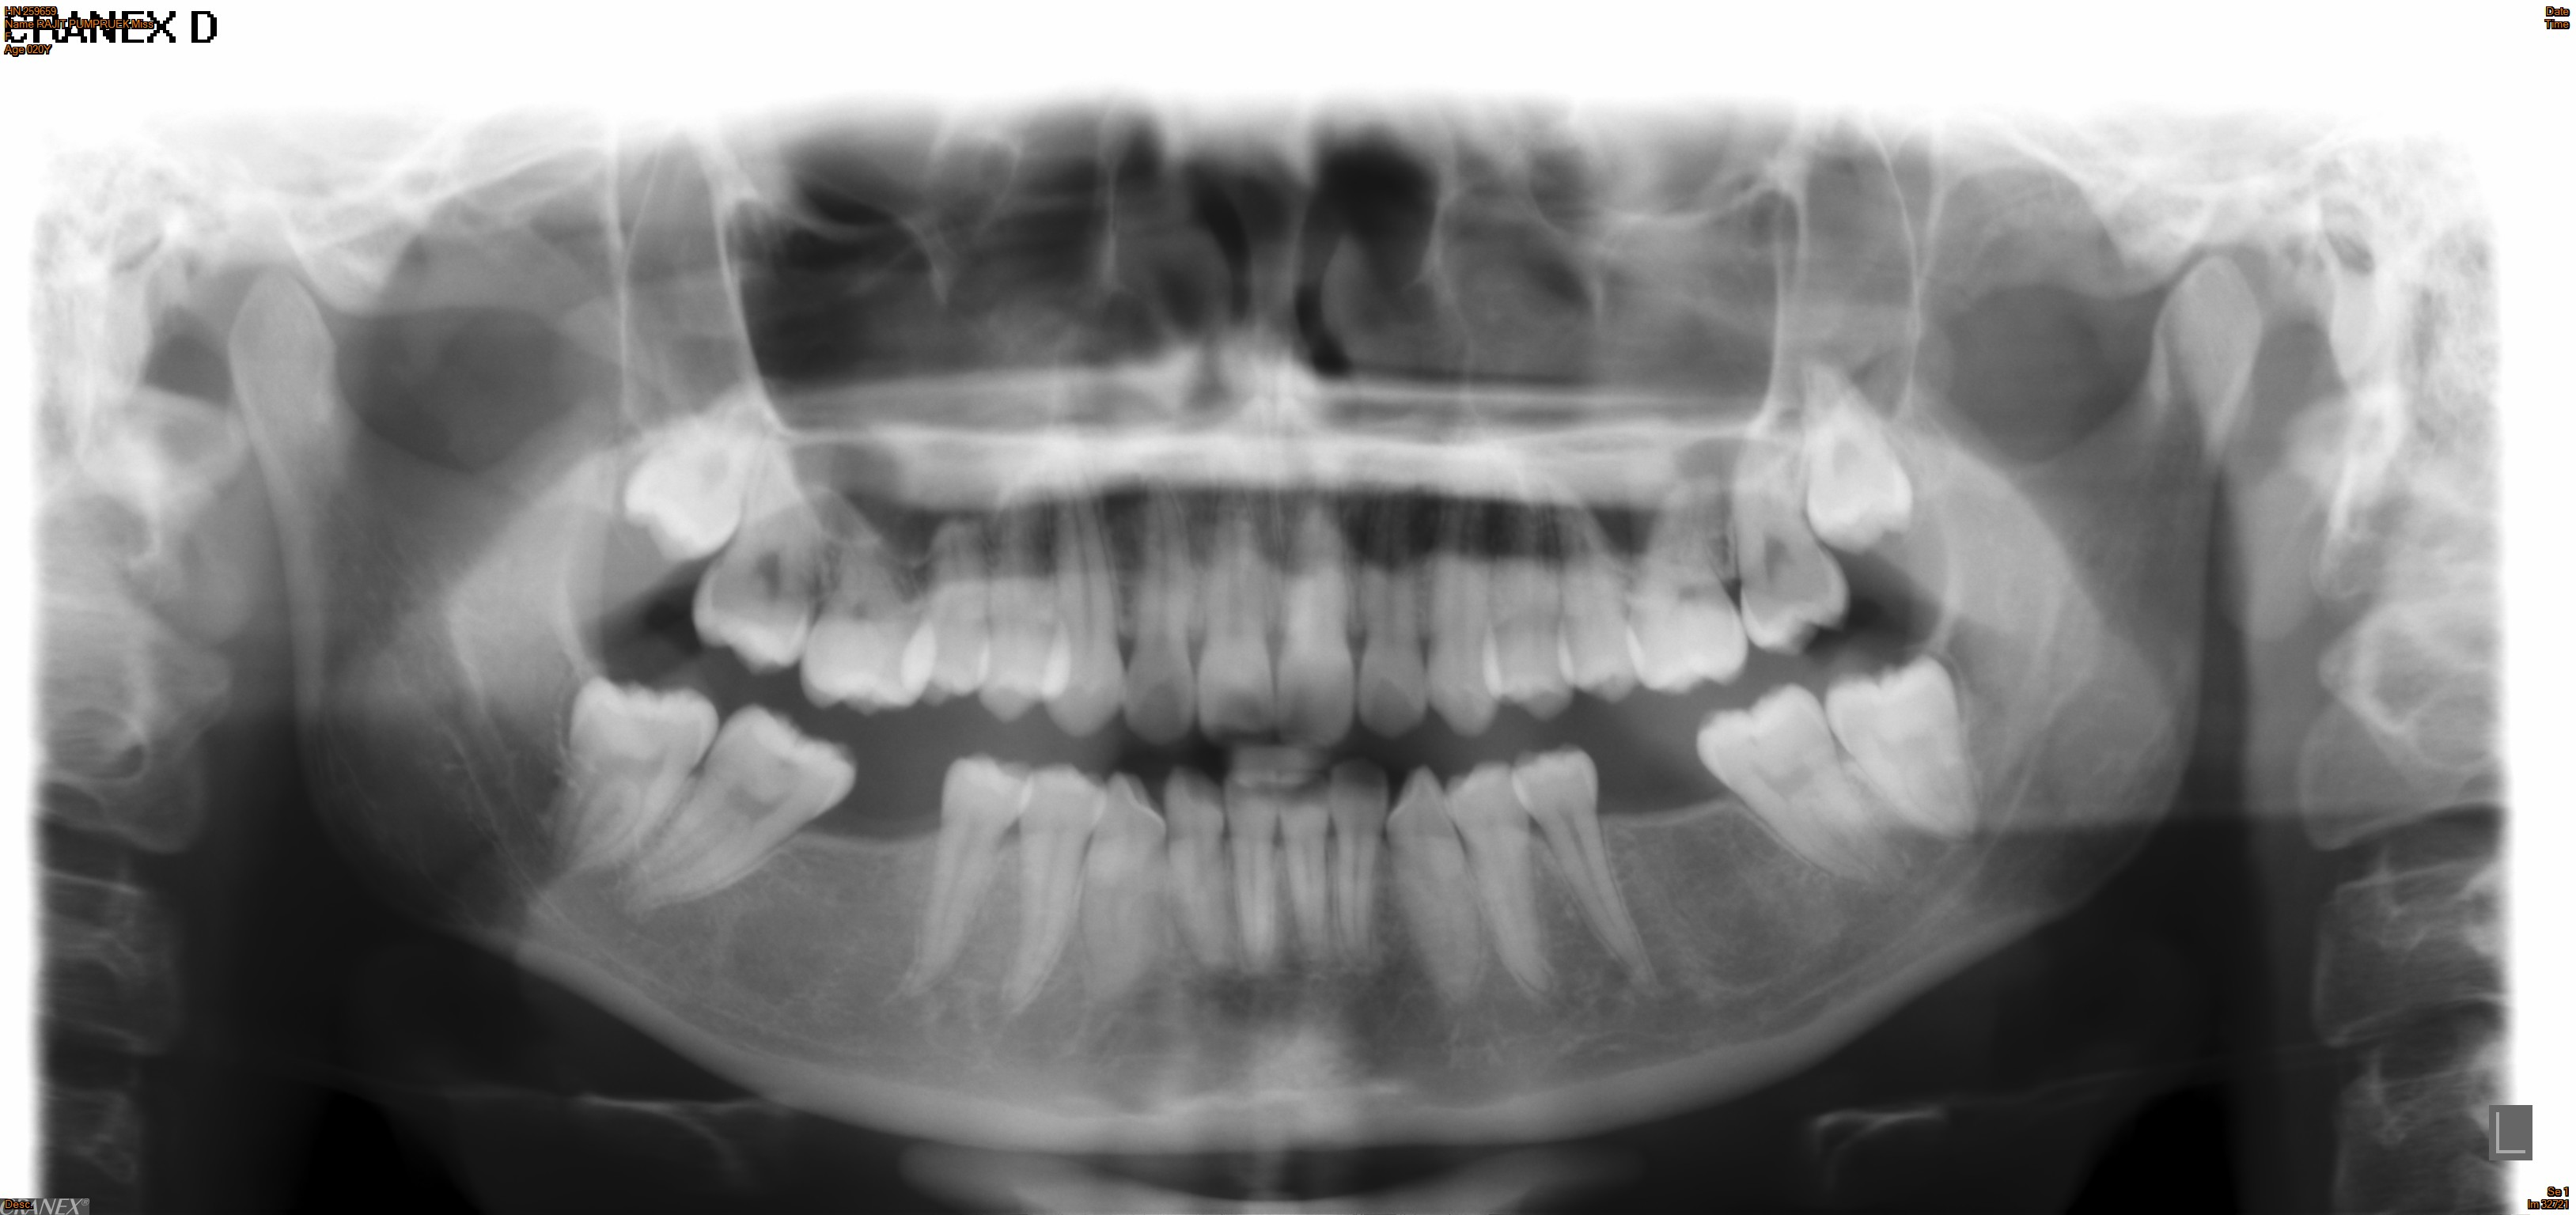periodontitis: (603, 699, 862, 926), (881, 745, 1046, 1021), (1692, 676, 1904, 887)
